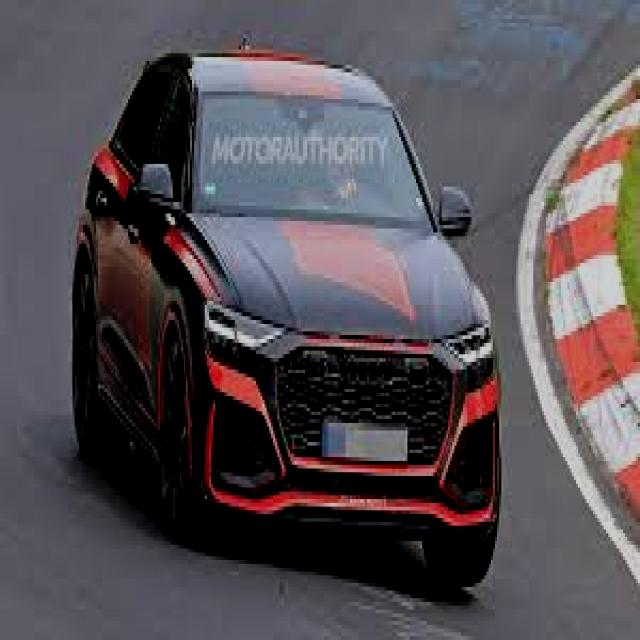SUV: (78, 49, 510, 549)
